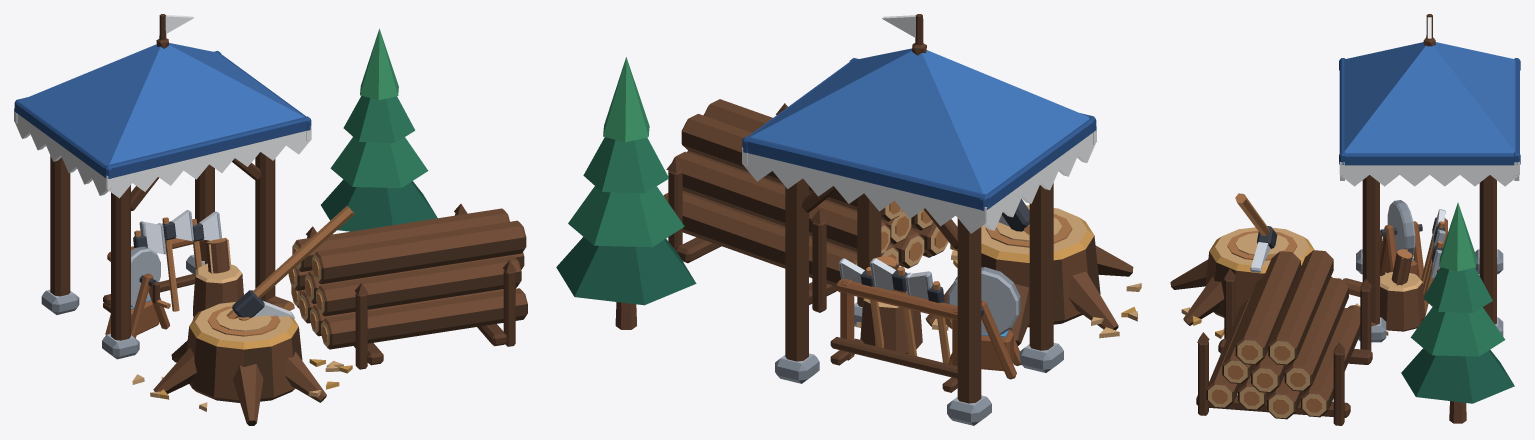
File: Bld_LumberCamp.fbx
3 views of the same model, side by side, from view 1: azimuth 30°, elevation 25°; view 2: azimuth 150°, elevation 25°; view 3: azimuth 270°, elevation 25° (orthographic). The views are drawn at different scales.
Visible parts, largest first — view 1: Bld_LumberCamp; view 2: Bld_LumberCamp; view 3: Bld_LumberCamp.
Boxes of the visible parts, bbox=[...] form: Bld_LumberCamp: bbox=[14, 14, 527, 425]; Bld_LumberCamp: bbox=[556, 14, 1141, 425]; Bld_LumberCamp: bbox=[1170, 14, 1520, 425].
Bounding box in the file's own units: 4.26 × 3.24 × 3.47.
